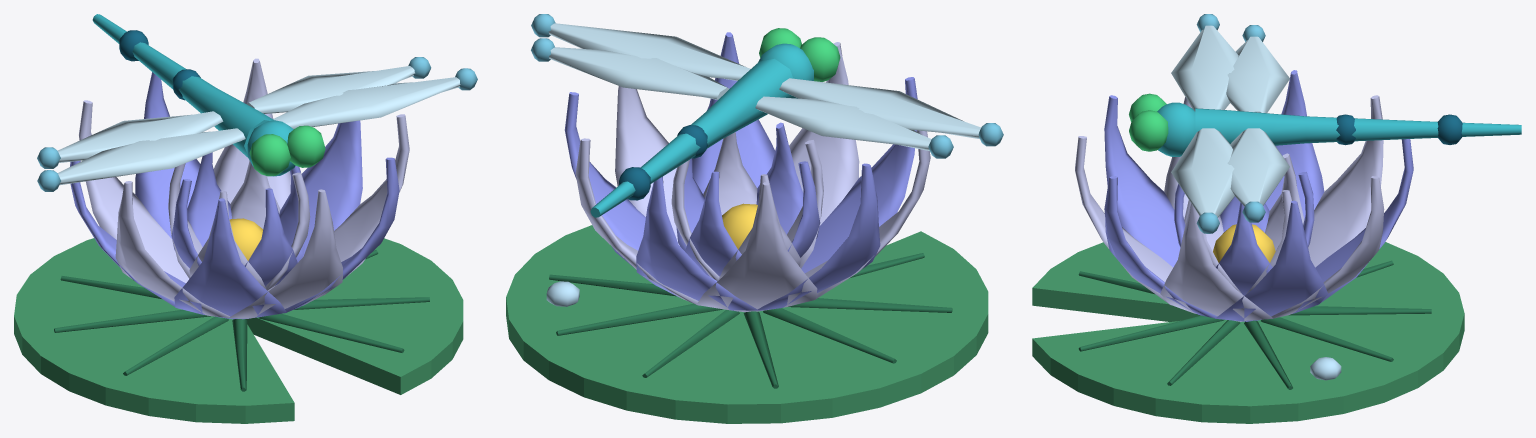
File: DragonflyBobber.glb
3 views of the same model, side by side, from view 1: azimuth 30°, elevation 25°; view 2: azimuth 150°, elevation 25°; view 3: azimuth 270°, elevation 25° (orthographic). The views are drawn at different scales.
Parts seen in each view (by area): view 1: DragonflyBobber__Leaf, DragonflyBobber__Lotus, DragonflyBobber__LotusLight, DragonflyBobber__Wing, DragonflyBobber__LeafDark, DragonflyBobber__Dragon, DragonflyBobber__DragonEye, DragonflyBobber__WingEdge, DragonflyBobber__DragonDark, DragonflyBobber__LotusCore; view 2: DragonflyBobber__Leaf, DragonflyBobber__Lotus, DragonflyBobber__LotusLight, DragonflyBobber__Wing, DragonflyBobber__LeafDark, DragonflyBobber__Dragon, DragonflyBobber__DragonEye, DragonflyBobber__WingEdge, DragonflyBobber__DragonDark, DragonflyBobber__LotusCore, DragonflyBobber__Drop; view 3: DragonflyBobber__Leaf, DragonflyBobber__Lotus, DragonflyBobber__LotusLight, DragonflyBobber__Wing, DragonflyBobber__Dragon, DragonflyBobber__LeafDark, DragonflyBobber__DragonEye, DragonflyBobber__WingEdge, DragonflyBobber__DragonDark, DragonflyBobber__LotusCore, DragonflyBobber__Drop.
Part boxes in pixels (x1,y1,x2,y2): DragonflyBobber__Leaf: (14, 238, 463, 423); DragonflyBobber__Lotus: (70, 72, 399, 319); DragonflyBobber__LotusLight: (79, 58, 409, 318); DragonflyBobber__Wing: (58, 66, 460, 185); DragonflyBobber__LeafDark: (54, 250, 429, 391); DragonflyBobber__Dragon: (92, 14, 295, 176); DragonflyBobber__DragonEye: (249, 125, 325, 176); DragonflyBobber__WingEdge: (37, 57, 477, 191); DragonflyBobber__DragonDark: (119, 30, 200, 100); DragonflyBobber__LotusCore: (229, 218, 263, 260); DragonflyBobber__Leaf: (506, 225, 988, 423); DragonflyBobber__Lotus: (564, 32, 917, 311); DragonflyBobber__LotusLight: (575, 42, 930, 312); DragonflyBobber__Wing: (548, 23, 981, 150); DragonflyBobber__LeafDark: (549, 253, 952, 388); DragonflyBobber__Dragon: (590, 43, 813, 217); DragonflyBobber__DragonEye: (759, 28, 840, 81); DragonflyBobber__WingEdge: (531, 14, 1003, 158); DragonflyBobber__DragonDark: (619, 125, 707, 200); DragonflyBobber__LotusCore: (722, 203, 757, 249); DragonflyBobber__Drop: (546, 281, 579, 306); DragonflyBobber__Leaf: (1032, 242, 1464, 423); DragonflyBobber__Lotus: (1104, 70, 1413, 321); DragonflyBobber__LotusLight: (1075, 95, 1384, 321); DragonflyBobber__Wing: (1171, 25, 1289, 217); DragonflyBobber__Dragon: (1157, 102, 1521, 156); DragonflyBobber__LeafDark: (1078, 260, 1431, 389); DragonflyBobber__DragonEye: (1129, 93, 1168, 151); DragonflyBobber__WingEdge: (1196, 14, 1265, 233); DragonflyBobber__DragonDark: (1336, 114, 1462, 145); DragonflyBobber__LotusCore: (1213, 224, 1275, 262); DragonflyBobber__Drop: (1310, 357, 1341, 380).
Size of the model in its own units: 0.6009 by 0.3072 by 0.5999.
